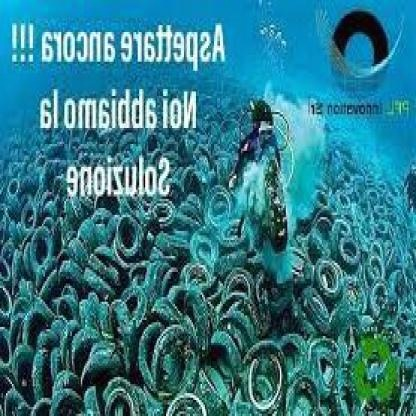tire: (140, 329, 224, 412), (121, 213, 163, 304), (242, 334, 289, 400), (211, 260, 262, 316), (306, 254, 364, 302), (200, 203, 244, 256)
